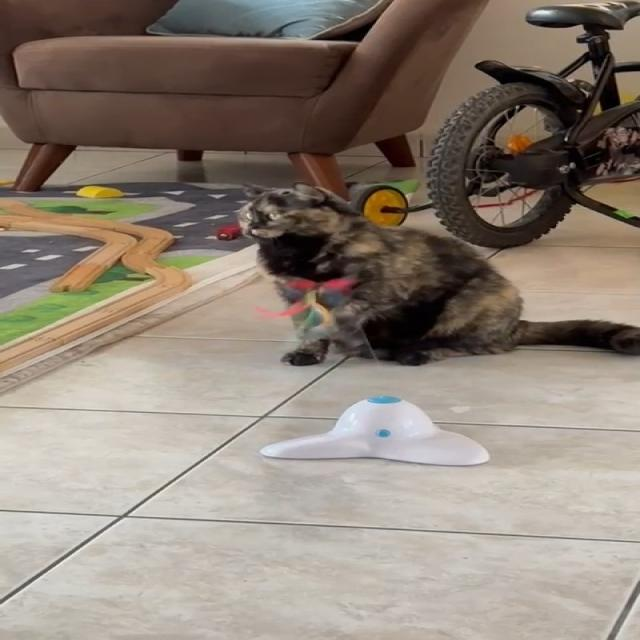authorized: (234, 180, 638, 367)
